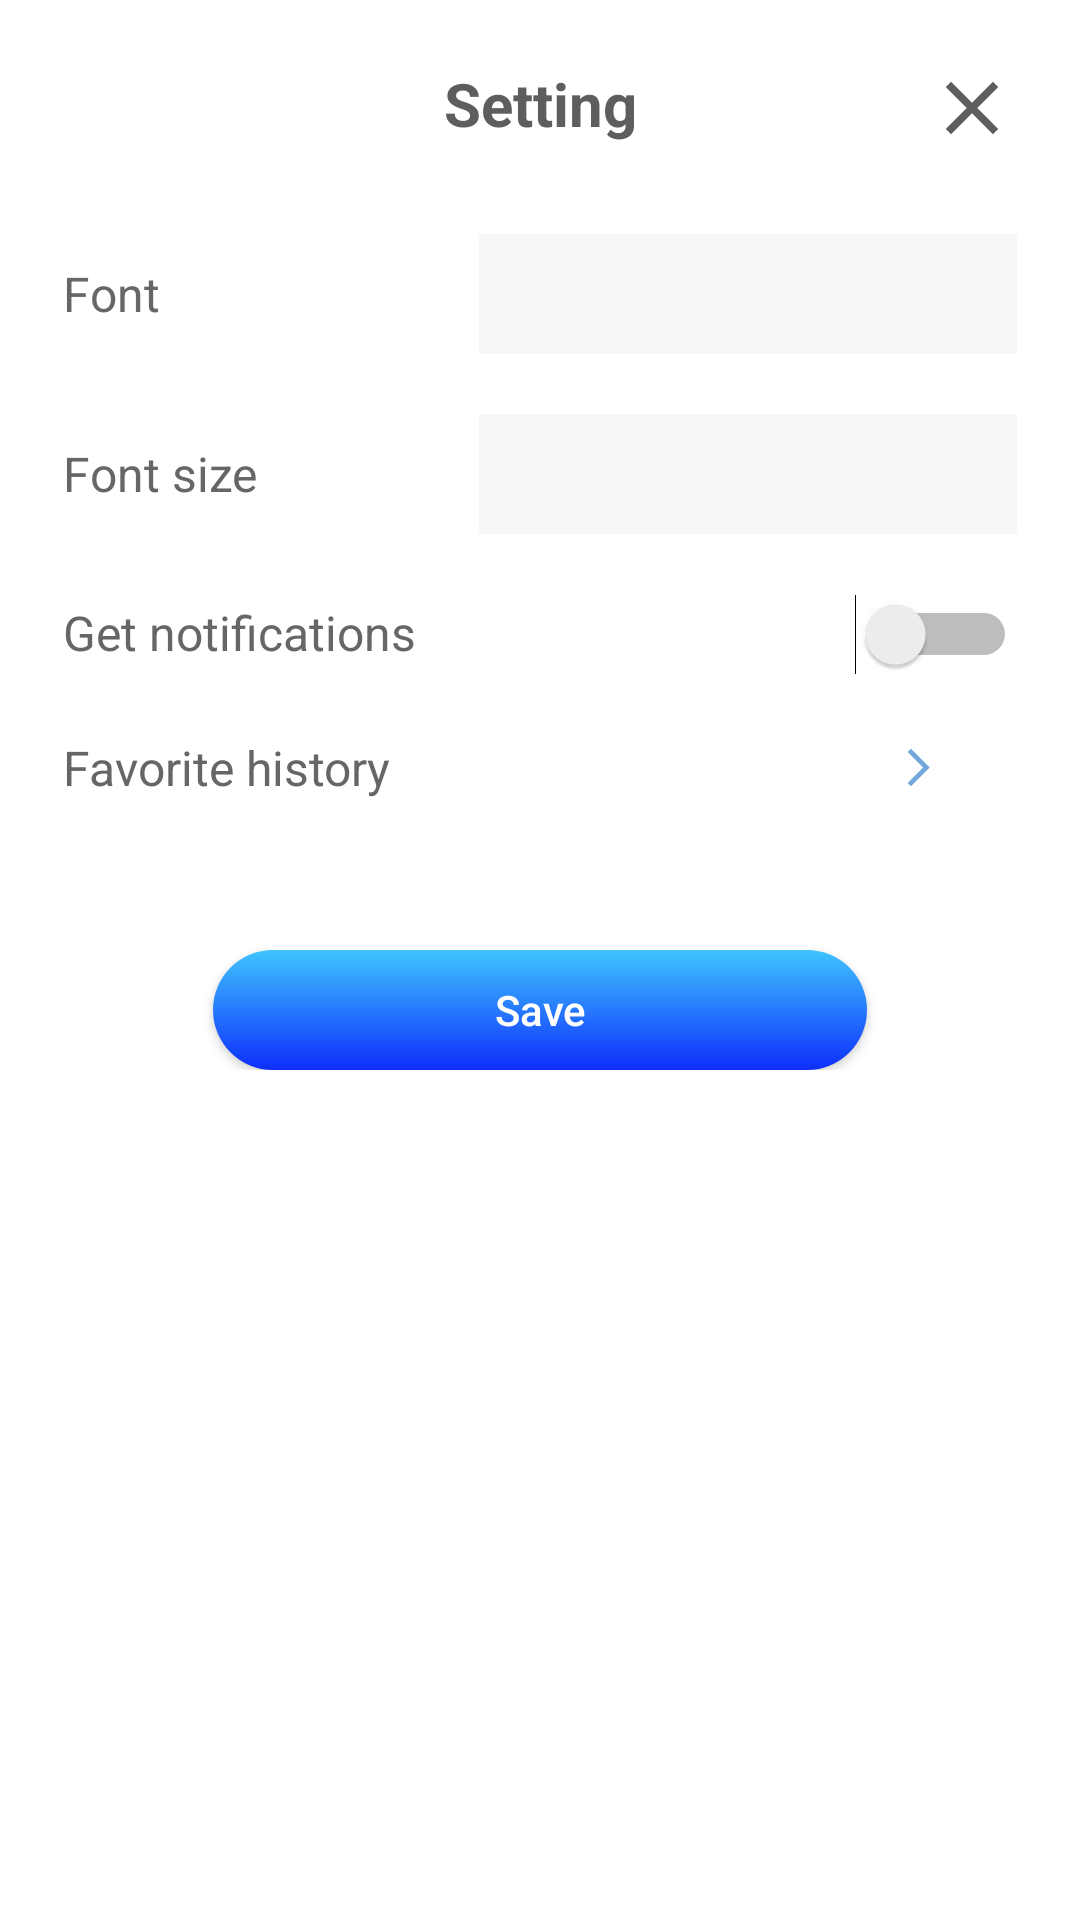

Icons on this 1080w x 1920h Android screen, each with the point to tap as (x=x, y=y):
Close: (x=972, y=108)
icon next: (x=919, y=767)
